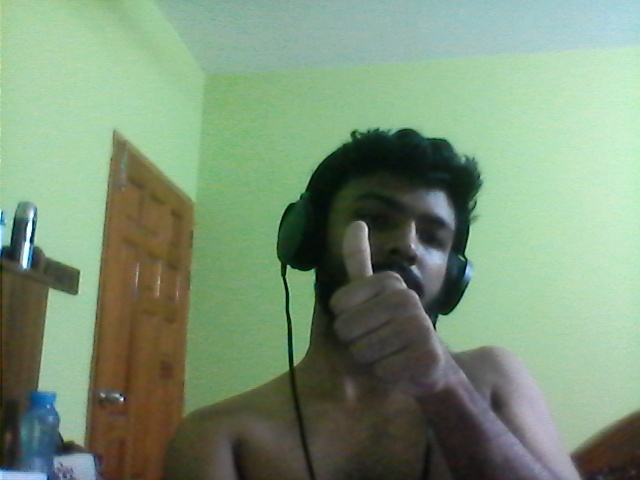Yes: (313, 218, 456, 395)
